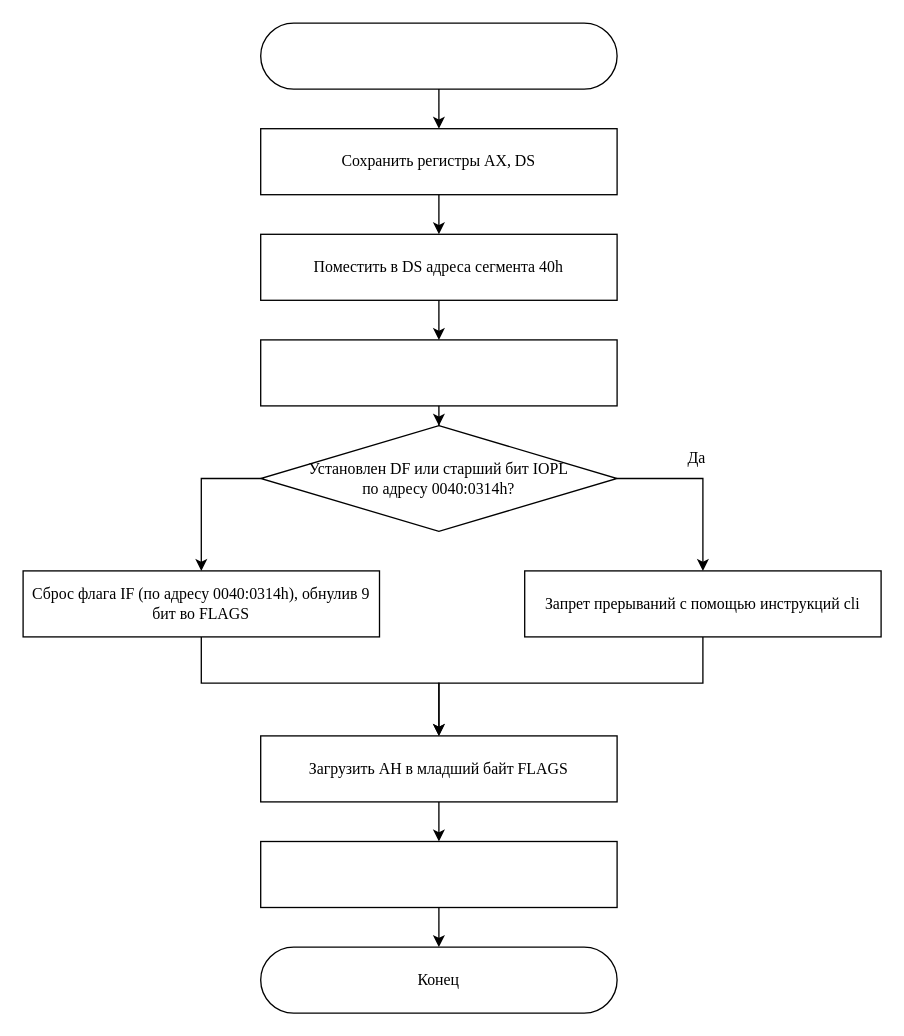
This 904x1036 diagram has some shape labels left out. Here are the shapes that lost their labels. From the top down, the box of each, then its label:
(259, 22, 617, 89): Начало
(259, 339, 617, 406): Загрузить младщий байт FLAGS в AH
(259, 840, 617, 908): Восстановить AX, DS
